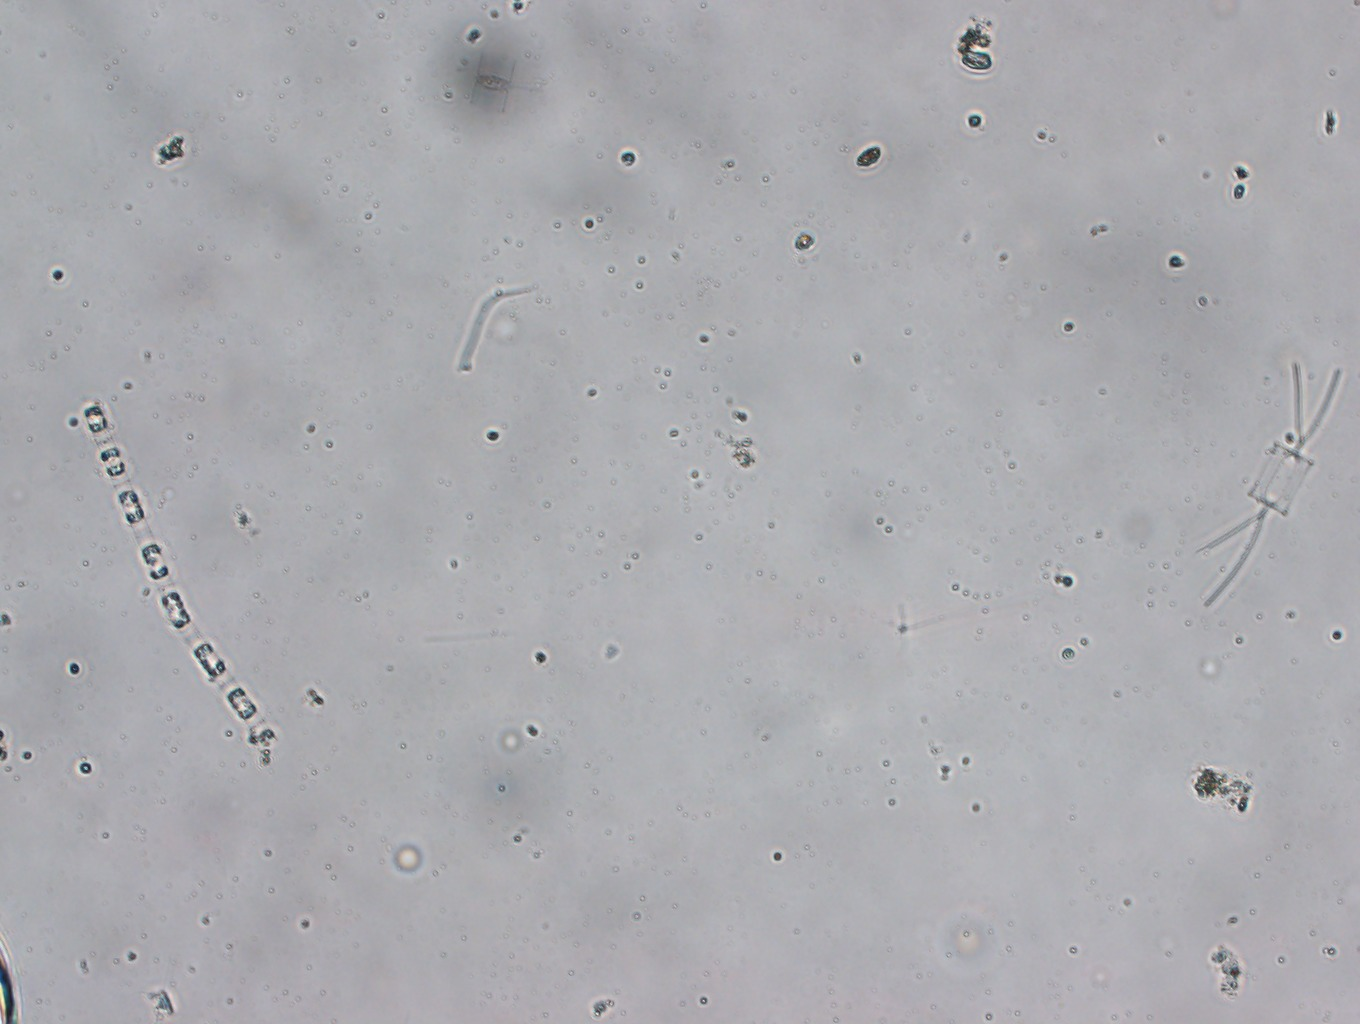chaetoceros: (1197, 359, 1338, 608)
skeletonema: (84, 399, 277, 753)
